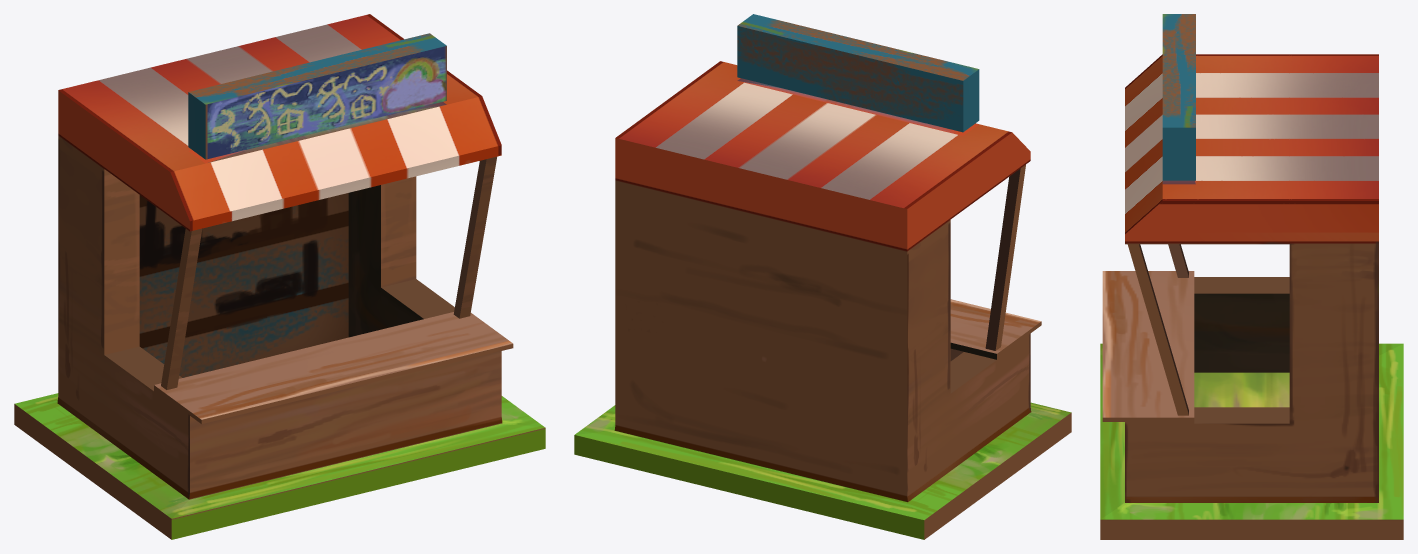
File: Store.fbx
3 views of the same model, side by side, from view 1: azimuth 30°, elevation 25°; view 2: azimuth 150°, elevation 25°; view 3: azimuth 270°, elevation 25° (orthographic). The views are drawn at different scales.
Visible parts, largest first — view 1: Cube; view 2: Cube; view 3: Cube.
Part boxes in pixels (<box>): Cube: <box>14,14,545,539</box>; Cube: <box>574,14,1071,539</box>; Cube: <box>1100,14,1403,539</box>.
Bounding box in the file's own units: 1689 × 1708 × 1231.
1 material, 1 textured.
